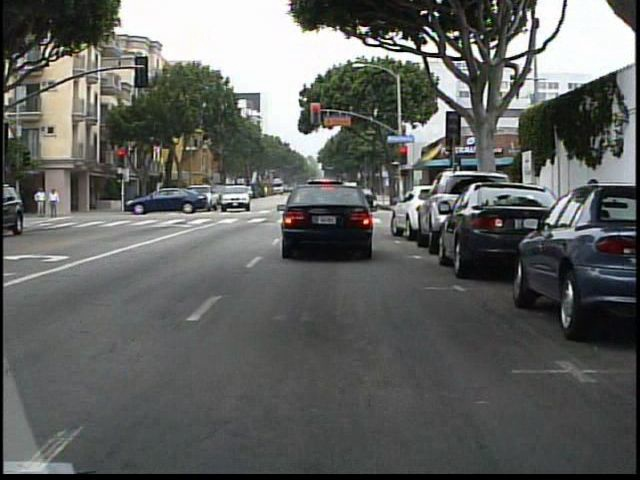person: (34, 185, 50, 219), (49, 187, 64, 219)
